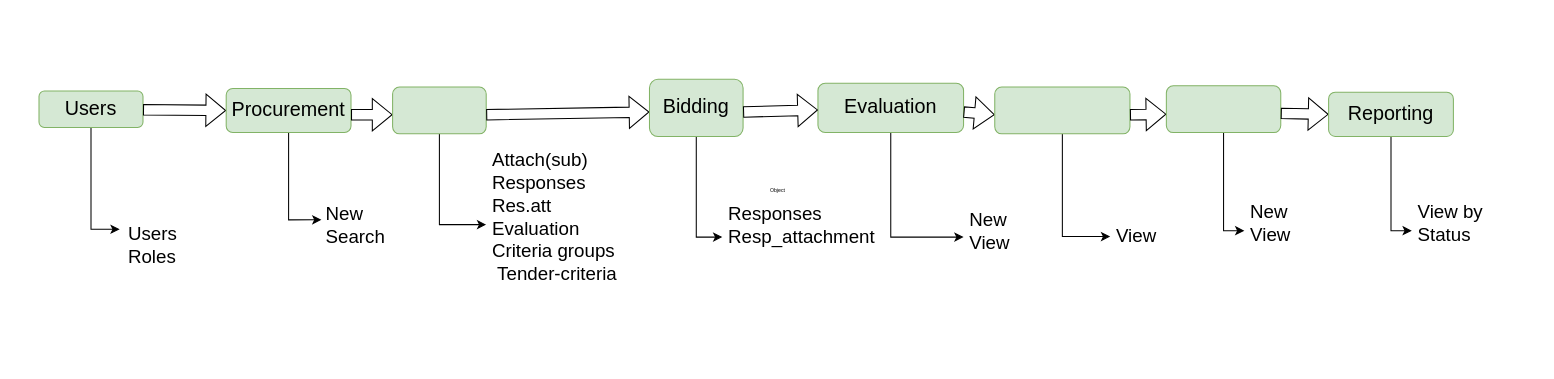
The diagram is 1554 pixels wide and 379 high, and some of its shapes have lost their labels. The centre of each missing label's shape, as x and y in pixels:
"Comm_notify" belongs at point 1062,110.
"Rating" belongs at point 1223,109.
"Tender" belongs at point 439,110.
